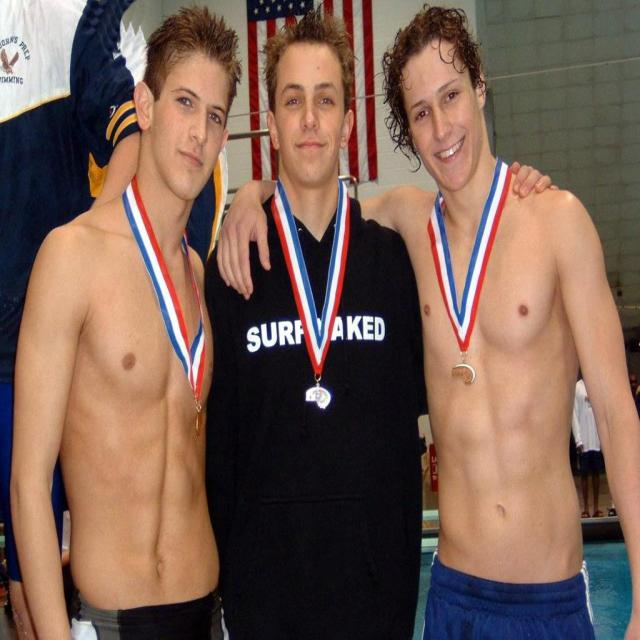Face: (386, 12, 493, 196), (140, 23, 239, 215), (267, 35, 363, 190)
